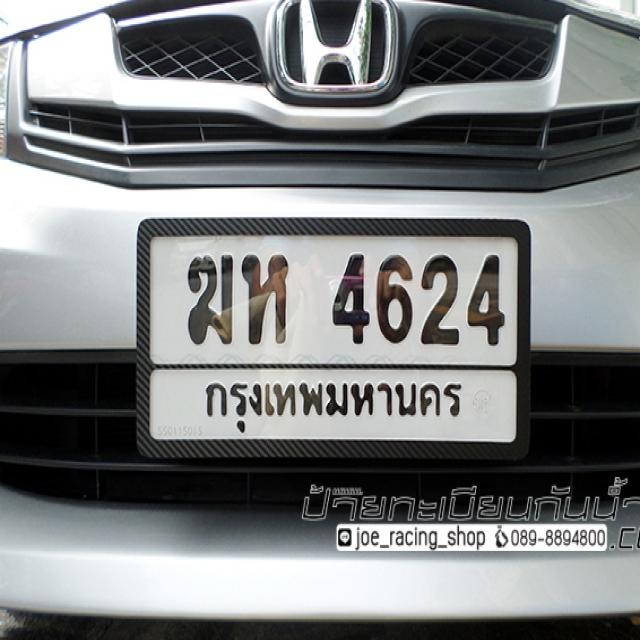license_plate: (134, 211, 534, 461)
